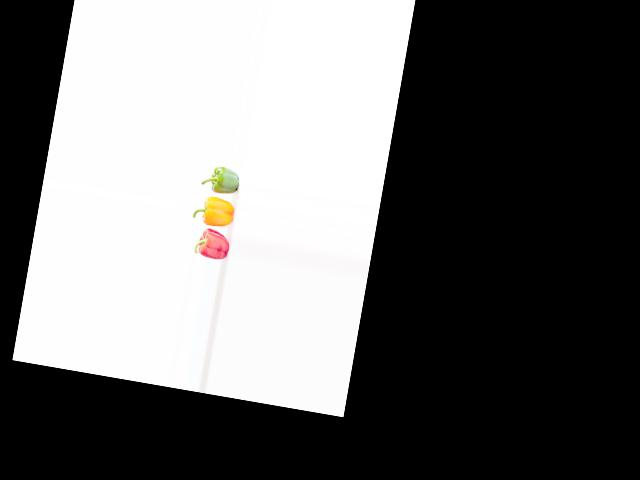bell_pepper: (185, 224, 231, 263)
